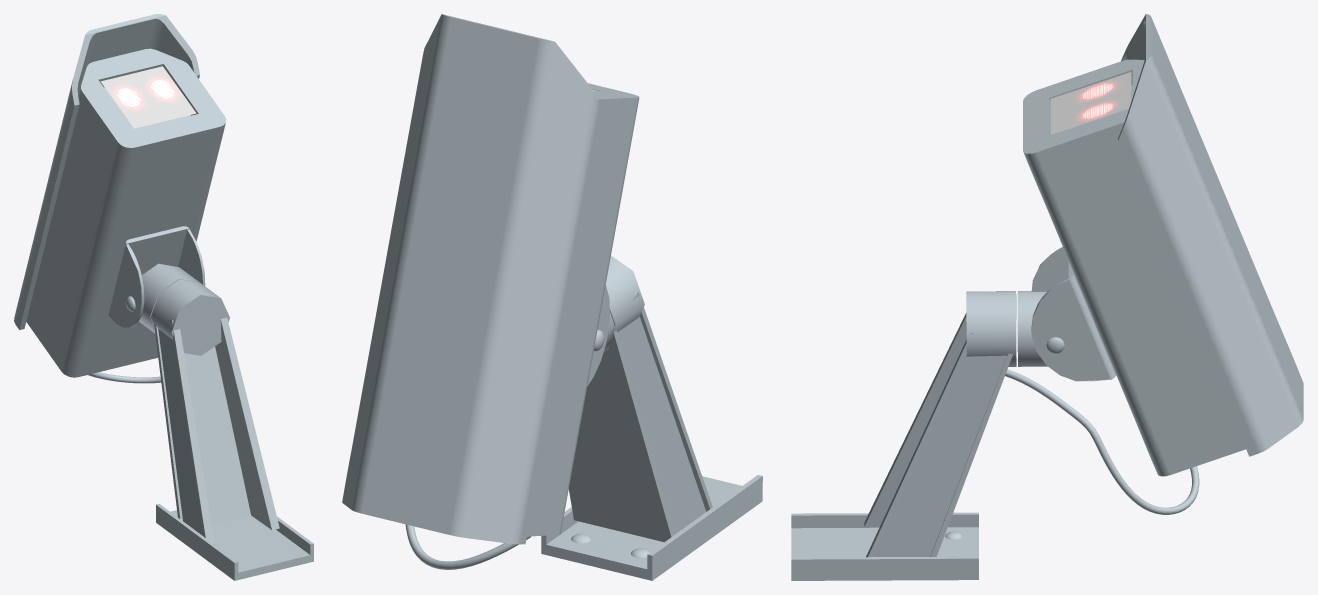
Rendered from robotcamera.gltf.
The picture shows the model from 3 angles, left to right: view 1: azimuth 30°, elevation 25°; view 2: azimuth 150°, elevation 25°; view 3: azimuth 270°, elevation 25°; orthographic projection. The views are drawn at different scales.
Visible parts, largest first — view 1: Object_12, Object_6, Object_11, Object_7, Object_13, Object_10, Plane, Object_5, Object_4; view 2: Object_11, Object_6, Object_12, Object_7, Object_10, Object_4, Object_13; view 3: Object_12, Object_11, Object_6, Object_7, Object_13, Object_10, Plane, Object_4, Object_5.
Part boxes in pixels (<box>): Object_12: <box>26,48,226,377</box>; Object_6: <box>154,317,279,544</box>; Object_11: <box>14,14,199,329</box>; Object_7: <box>156,503,313,580</box>; Object_13: <box>108,226,205,327</box>; Object_10: <box>150,279,229,355</box>; Plane: <box>100,66,196,128</box>; Object_5: <box>139,263,199,333</box>; Object_4: <box>88,372,161,383</box>; Object_11: <box>342,14,602,544</box>; Object_6: <box>569,291,712,542</box>; Object_12: <box>527,83,639,536</box>; Object_7: <box>541,475,762,580</box>; Object_10: <box>603,256,644,352</box>; Object_4: <box>405,524,531,569</box>; Object_13: <box>587,285,609,385</box>; Object_12: <box>1023,59,1245,476</box>; Object_11: <box>1118,14,1303,456</box>; Object_6: <box>864,313,1012,557</box>; Object_7: <box>791,512,978,580</box>; Object_13: <box>1031,246,1116,381</box>; Object_10: <box>966,291,1016,366</box>; Plane: <box>1050,72,1131,134</box>; Object_4: <box>1005,369,1199,514</box>; Object_5: <box>1017,291,1047,366</box>.
Bounding box in the file's own units: 1.26 × 3.92 × 3.48.
